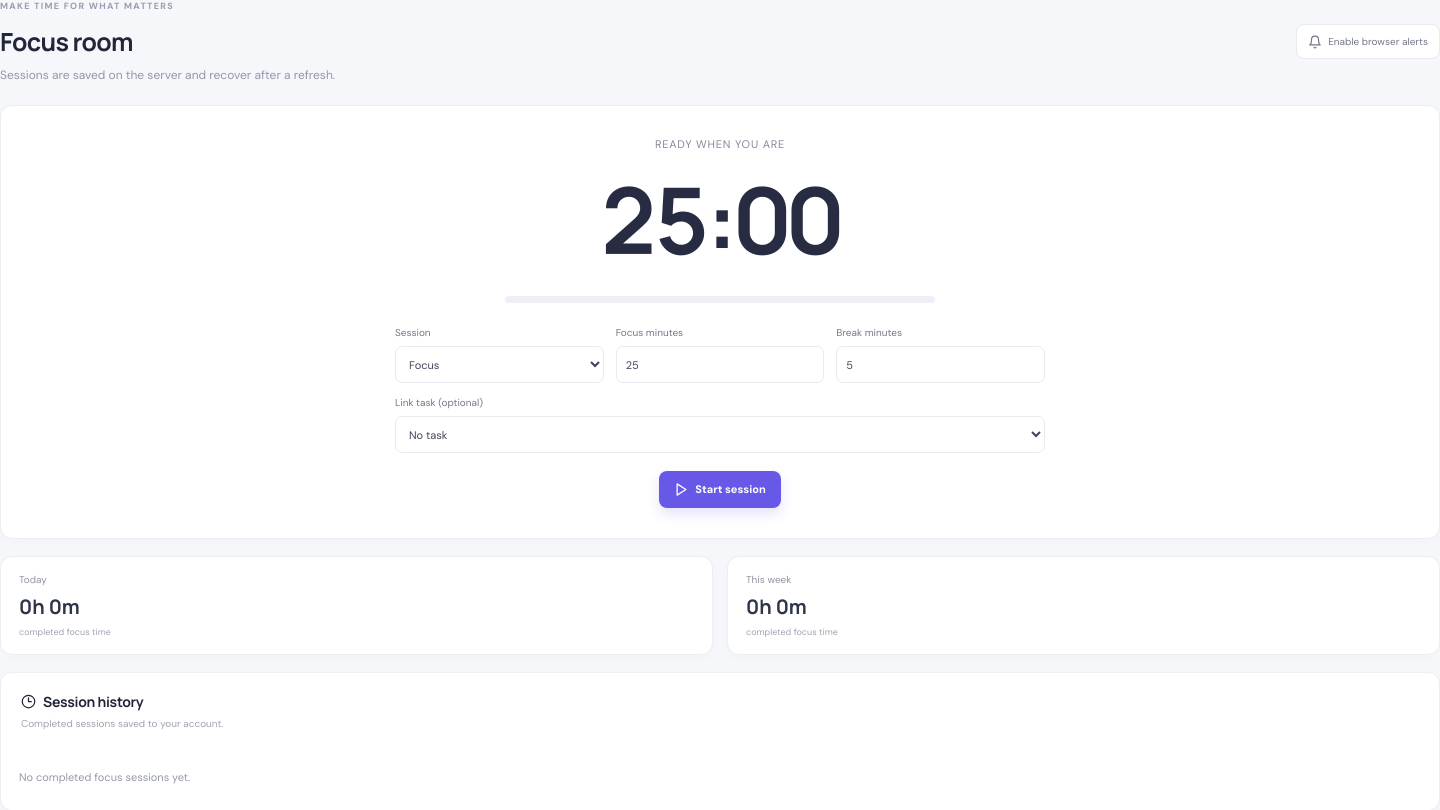
Test: FocusRoom › starts, pauses, resumes and finishes a persisted session
Expected: the text "Ready when you are" is shown, [655,136,785,150]
Select "Write report" in the dropdown labelled "Link task (optional)": (720, 434) [395,416,1045,453]
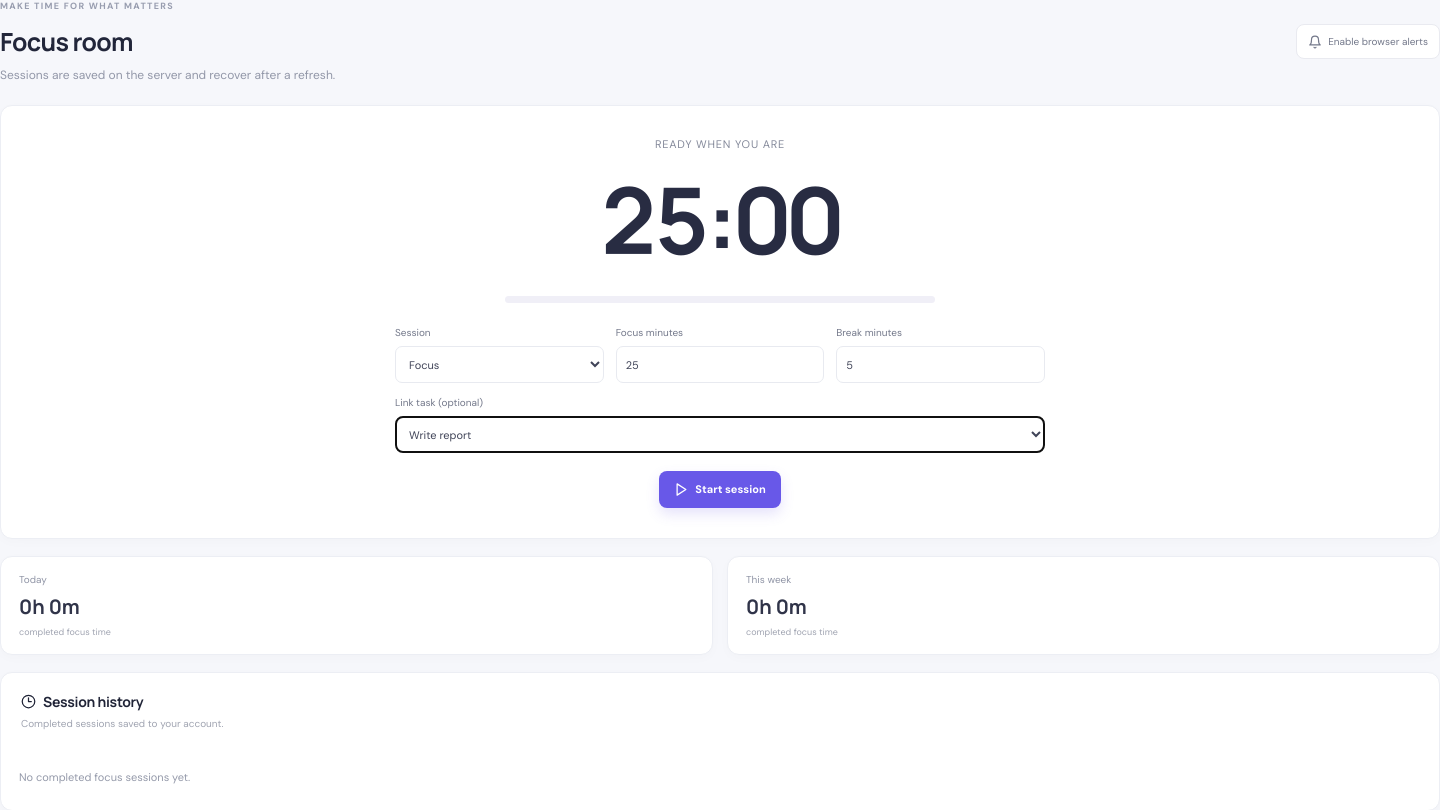
Click the button "Start session": (720, 489) [659,471,781,508]
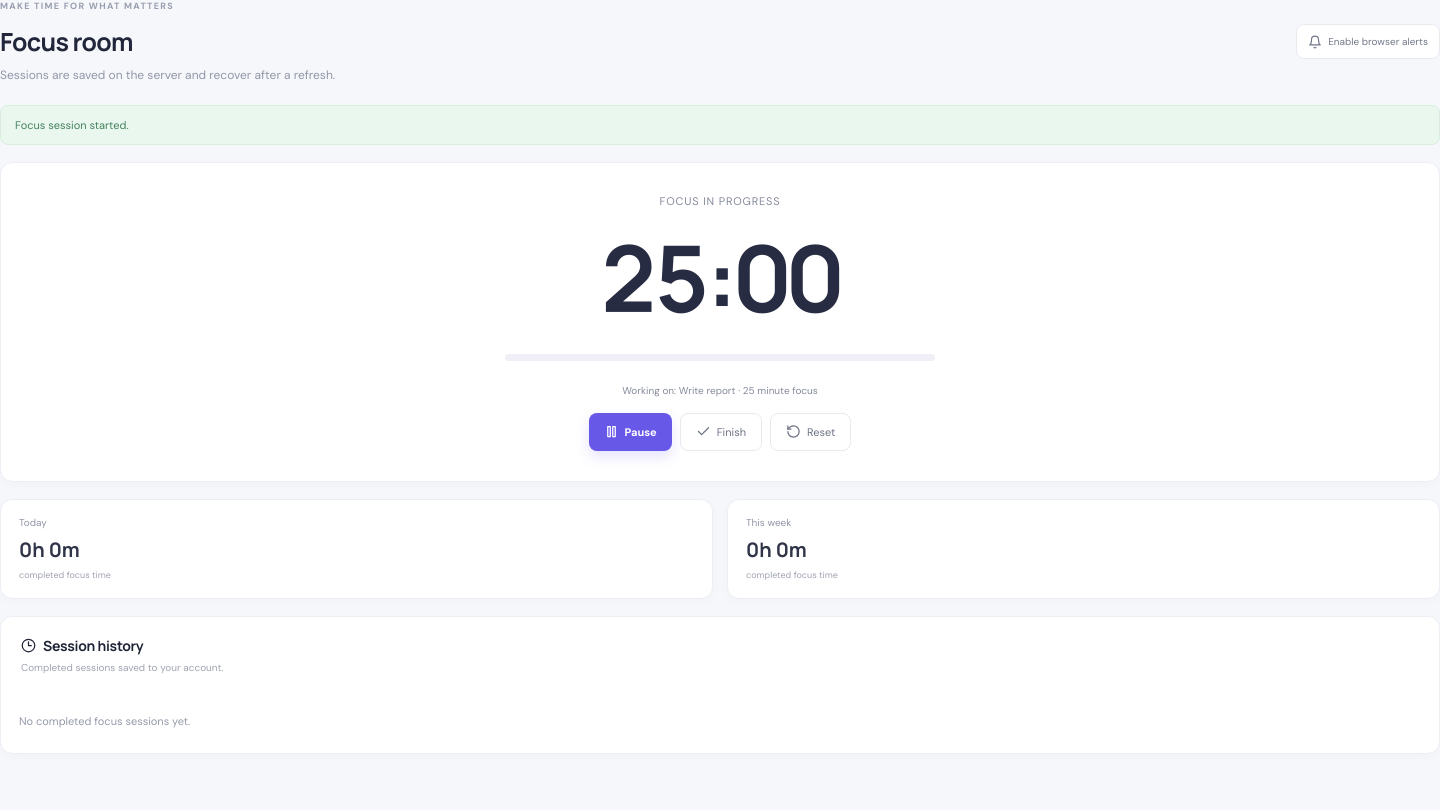
Expected: the text "Working on: Write report · 25 minute focus" is shown, [622,384,818,396]
Click the button "Pause": (630, 432) [589,412,672,451]
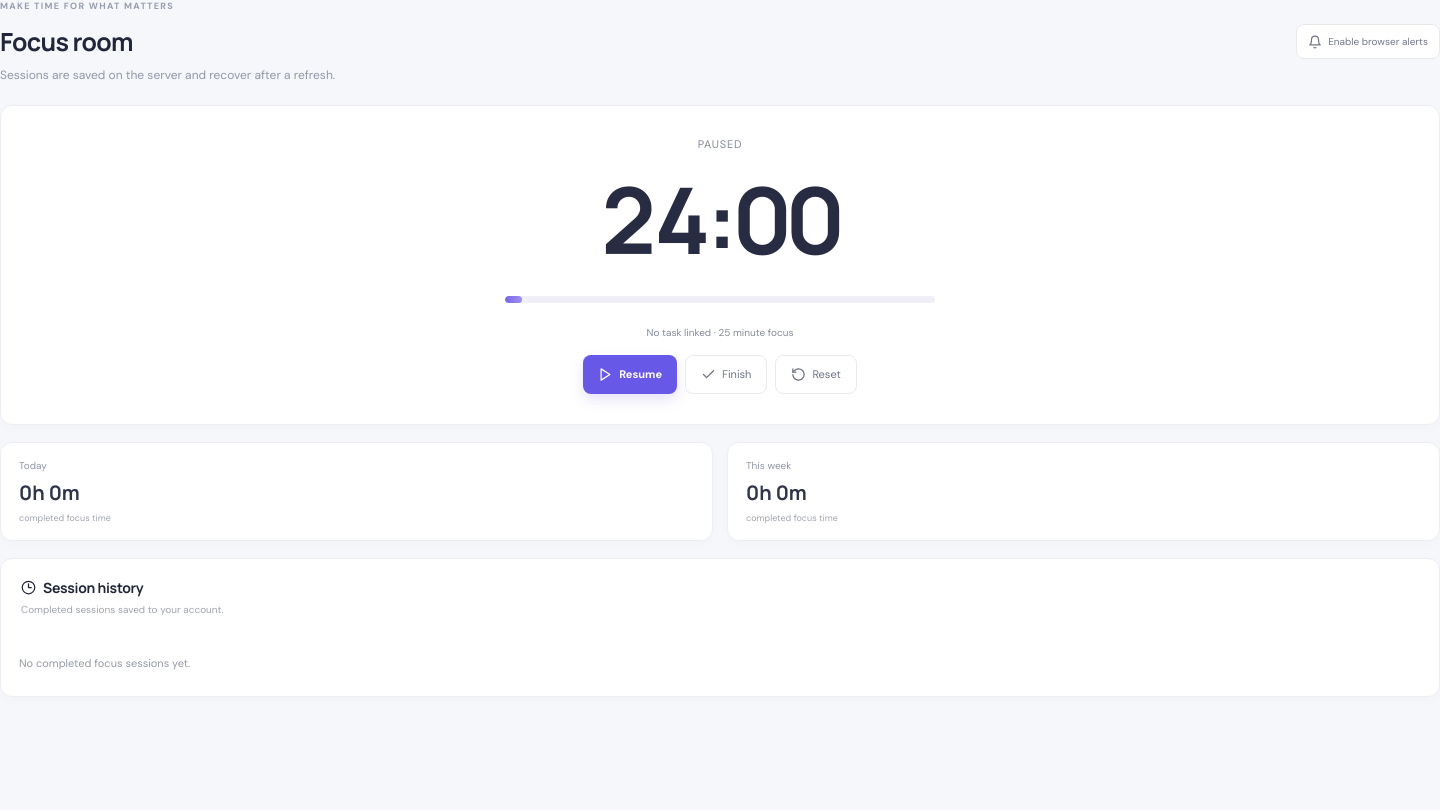
Click the button "Resume": (630, 374) [583,355,677,394]
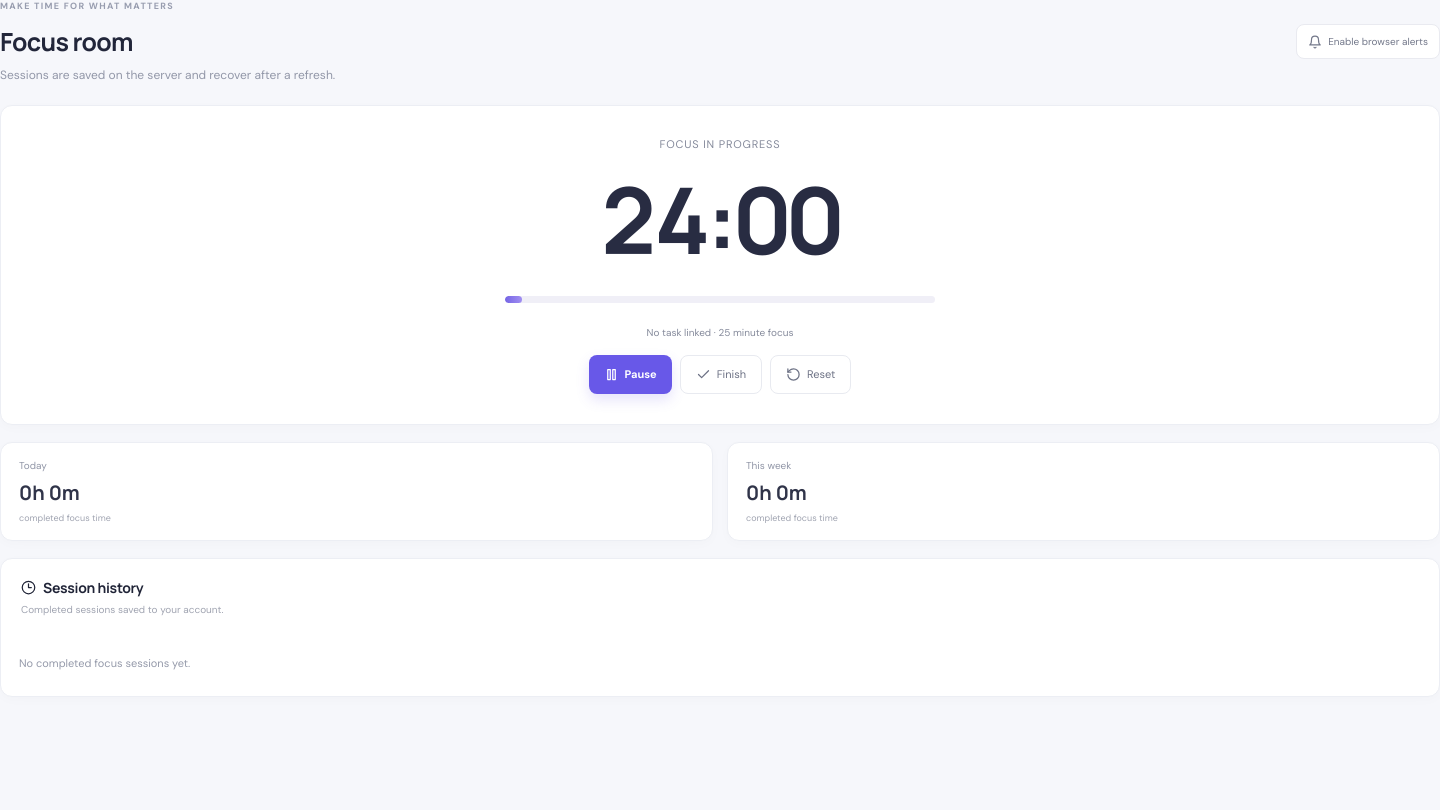
Click the button "Finish": (721, 374) [680,355,762,394]
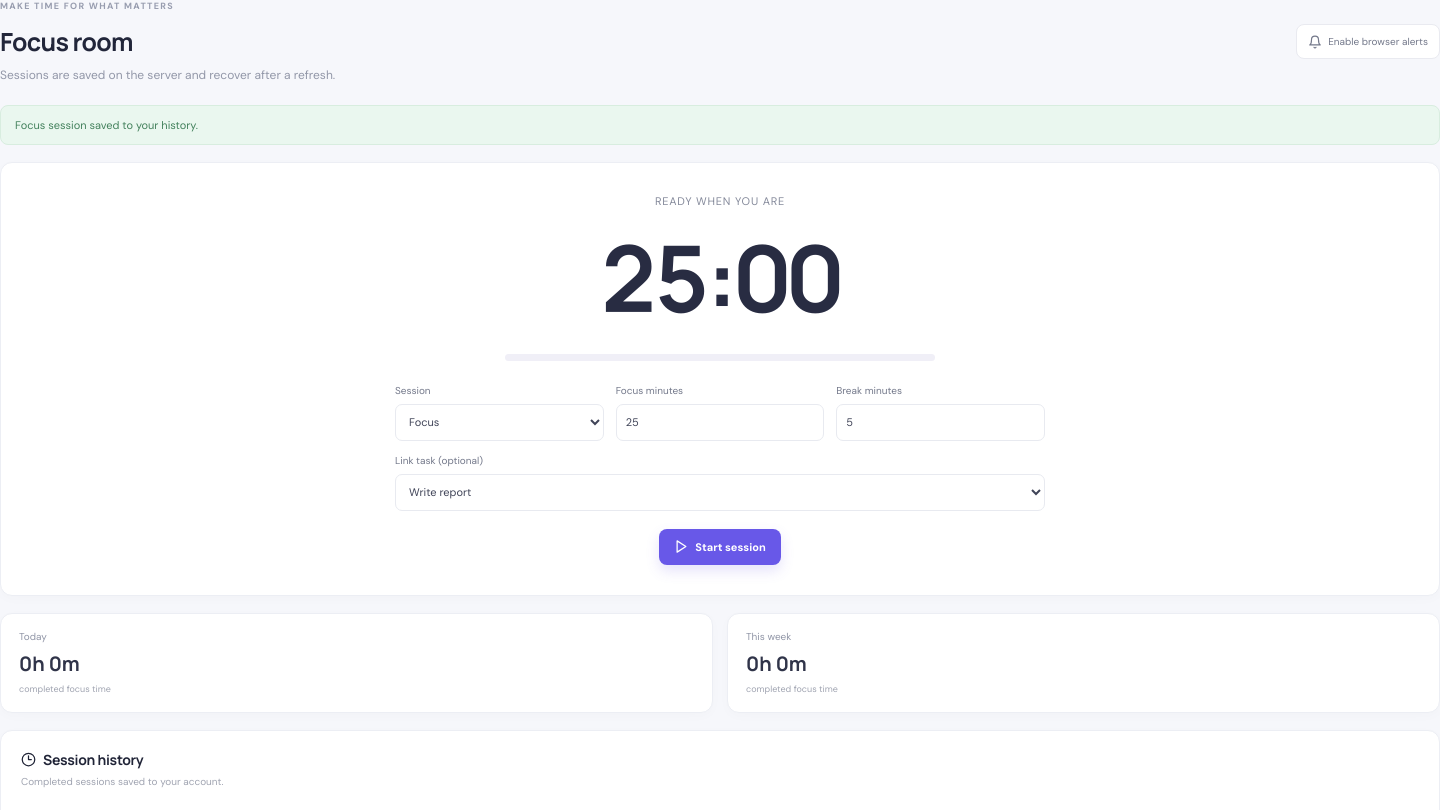
Expected: the text "Focus session saved to your history." is shown, [0,104,1439,145]
